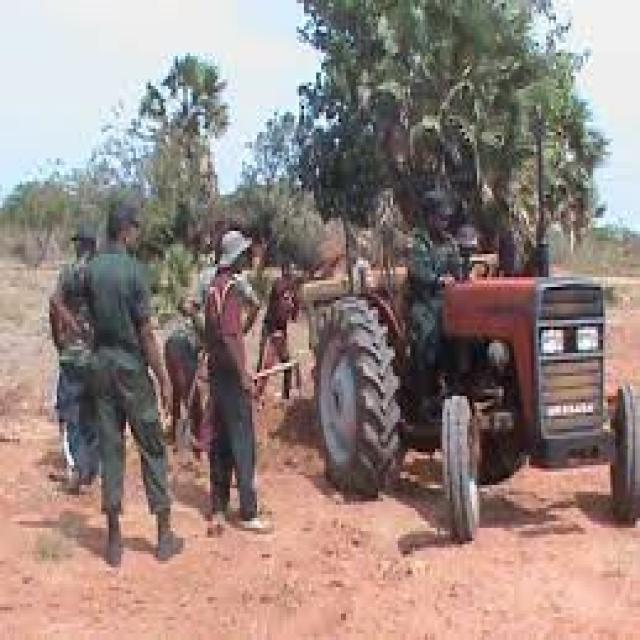person: (52, 205, 180, 564), (205, 231, 267, 531), (49, 231, 96, 492), (408, 188, 460, 419), (178, 264, 257, 340), (255, 274, 299, 399), (166, 320, 198, 452)
tractor: (314, 277, 638, 541)
